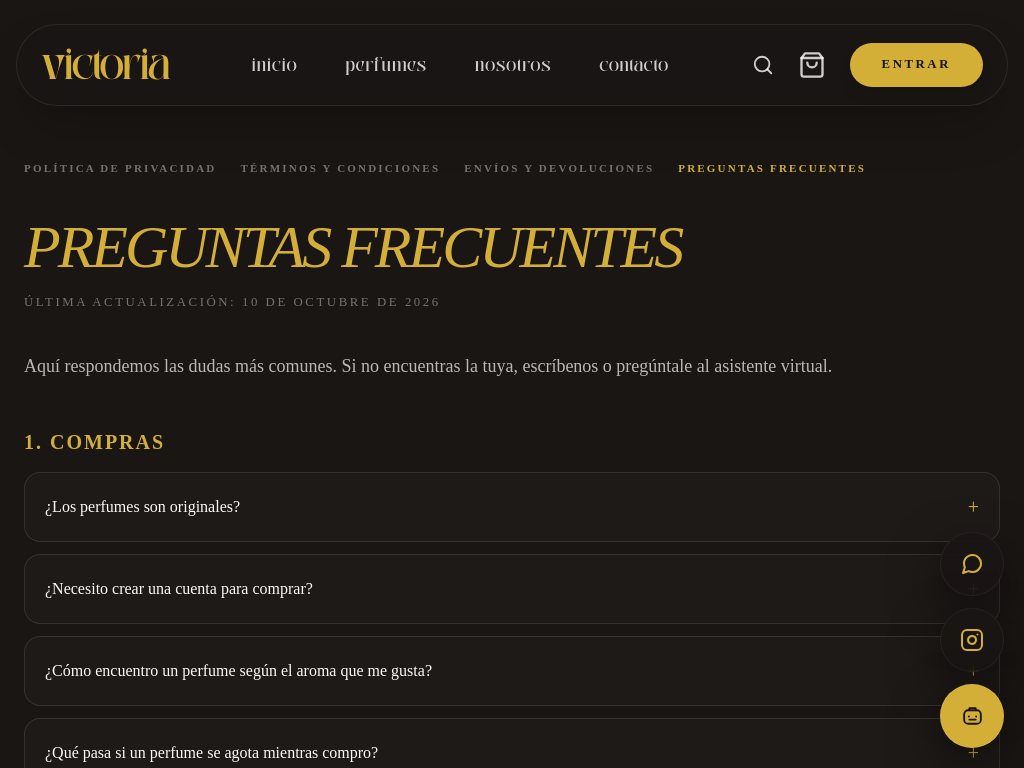
preguntas frecuentes › las respuestas empiezan cerradas y se abren al elegir la pregunta
The width and height of the screenshot is (1024, 768).
Click the text "¿Los perfumes son originales?" at (143, 507), box top-left (45, 495), bottom-right (240, 519)
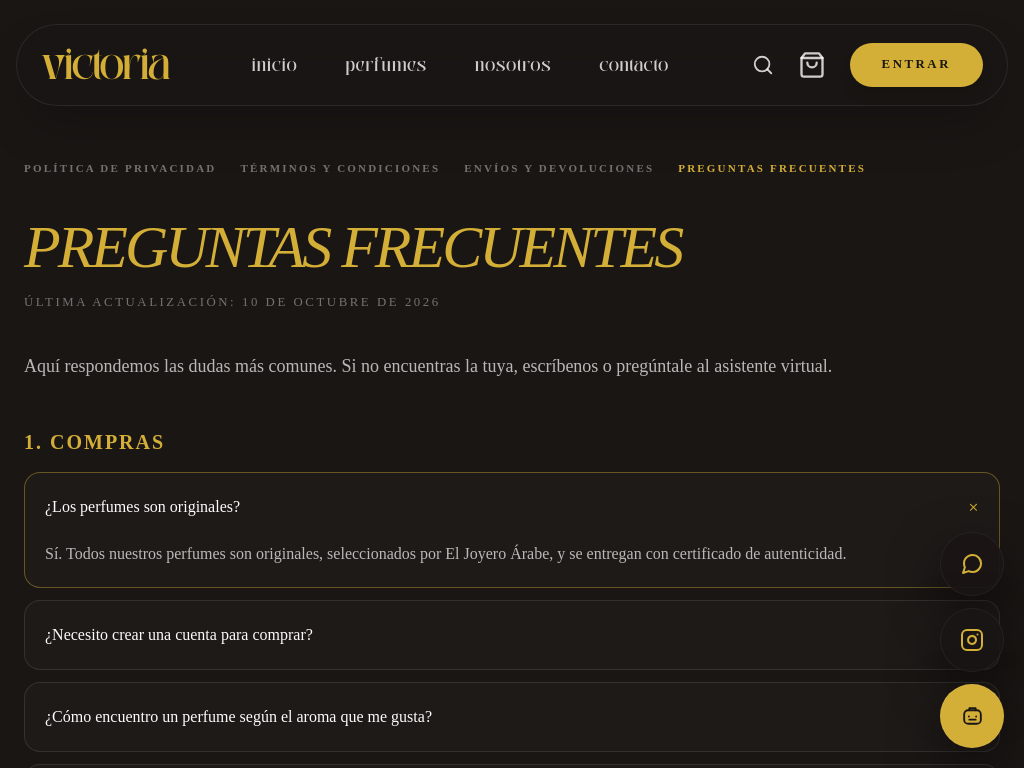
Expected: the text "certificado de autenticidad" is shown, top-left (45, 545), bottom-right (846, 562)
